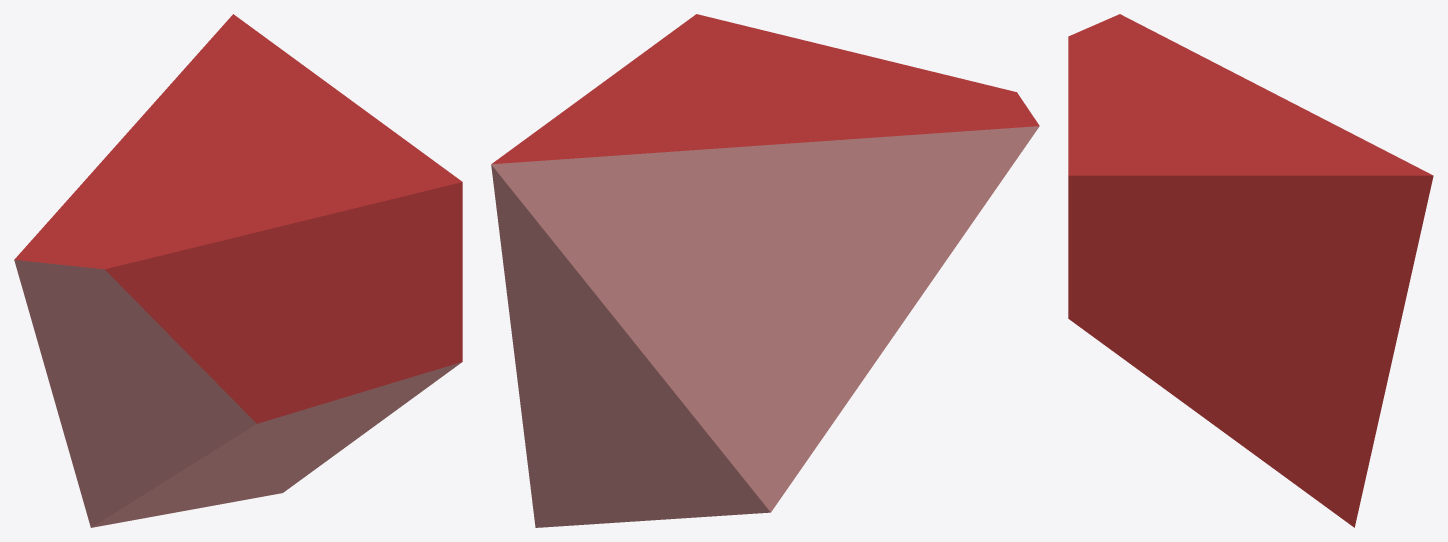
File: wrong2.fbx
The picture shows the model from 3 angles, left to right: view 1: azimuth 30°, elevation 25°; view 2: azimuth 150°, elevation 25°; view 3: azimuth 270°, elevation 25°; orthographic projection. The views are drawn at different scales.
Visible parts, largest first — view 1: wrong2; view 2: wrong2; view 3: wrong2.
Boxes of the visible parts, x1=… form: wrong2: x1=14, y1=14, x2=462, y2=527; wrong2: x1=491, y1=14, x2=1039, y2=527; wrong2: x1=1068, y1=14, x2=1433, y2=527.
Bounding box in the file's own units: 52.26 × 53.13 × 49.92.
